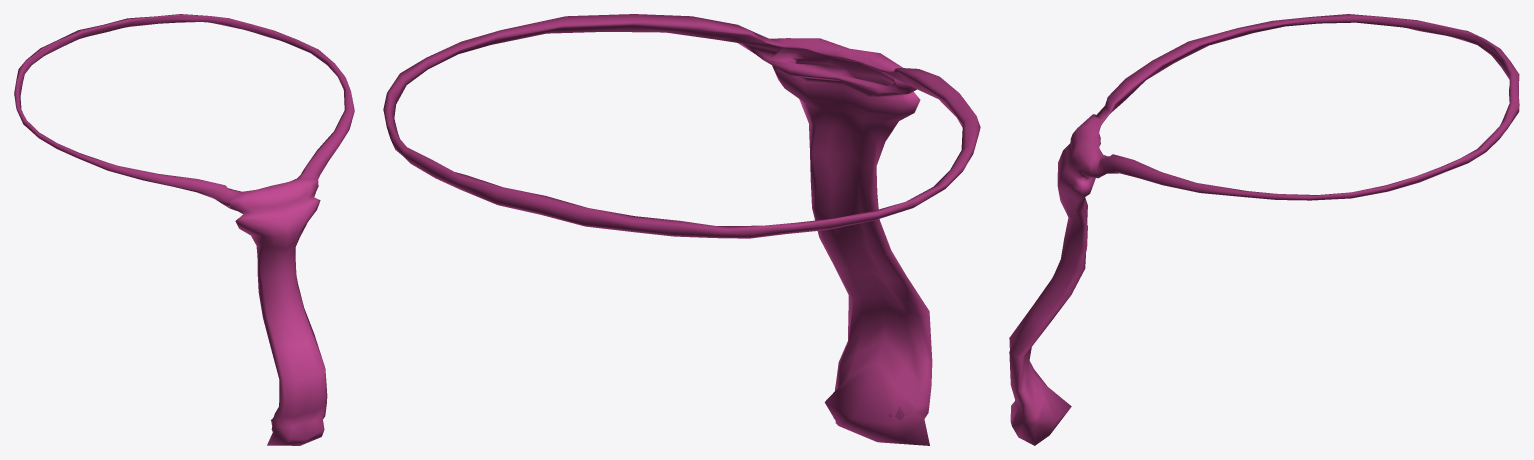
The model's file is cuello_corbata.glb.
3 views of the same model, side by side, from view 1: azimuth 30°, elevation 25°; view 2: azimuth 150°, elevation 25°; view 3: azimuth 270°, elevation 25° (orthographic). The views are drawn at different scales.
Parts seen in each view (by area): view 1: pieza; view 2: pieza; view 3: pieza.
Boxes of the visible parts, bbox=[...] form: pieza: bbox=[14, 14, 354, 445]; pieza: bbox=[383, 14, 980, 445]; pieza: bbox=[1009, 14, 1519, 445].
Bounding box in the file's own units: 0.7787 × 0.7037 × 0.9309.
